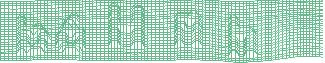6: (55, 13, 88, 56)
H: (107, 2, 147, 51)
b: (14, 14, 51, 56)
h: (226, 12, 259, 60)
n: (173, 11, 205, 49)
